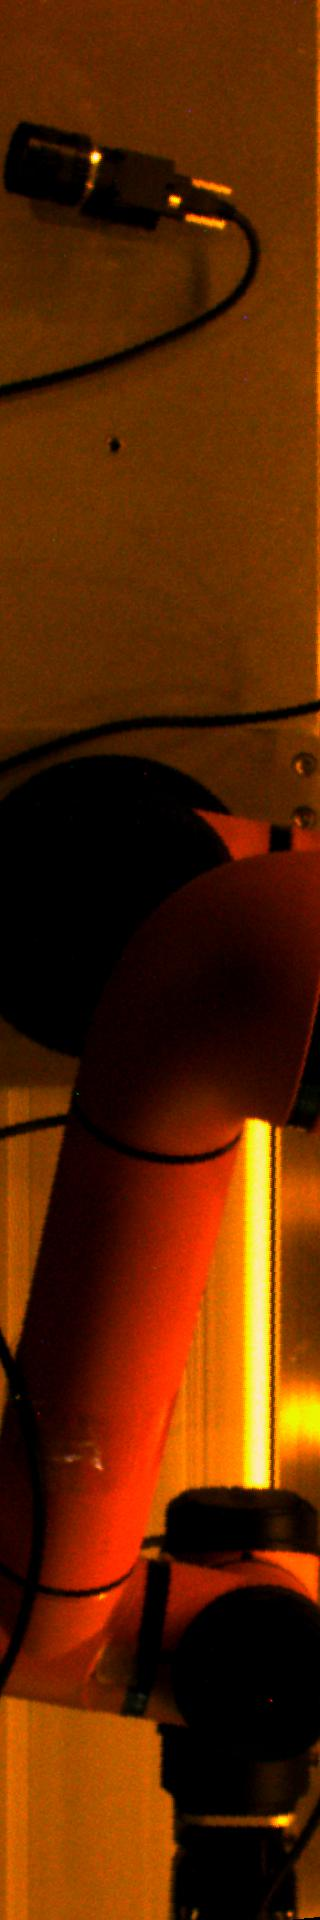keyPoint_2: (99, 432, 129, 462)
